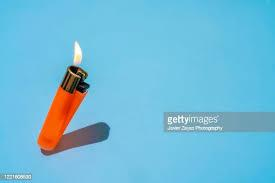lighter: (38, 63, 89, 155)
